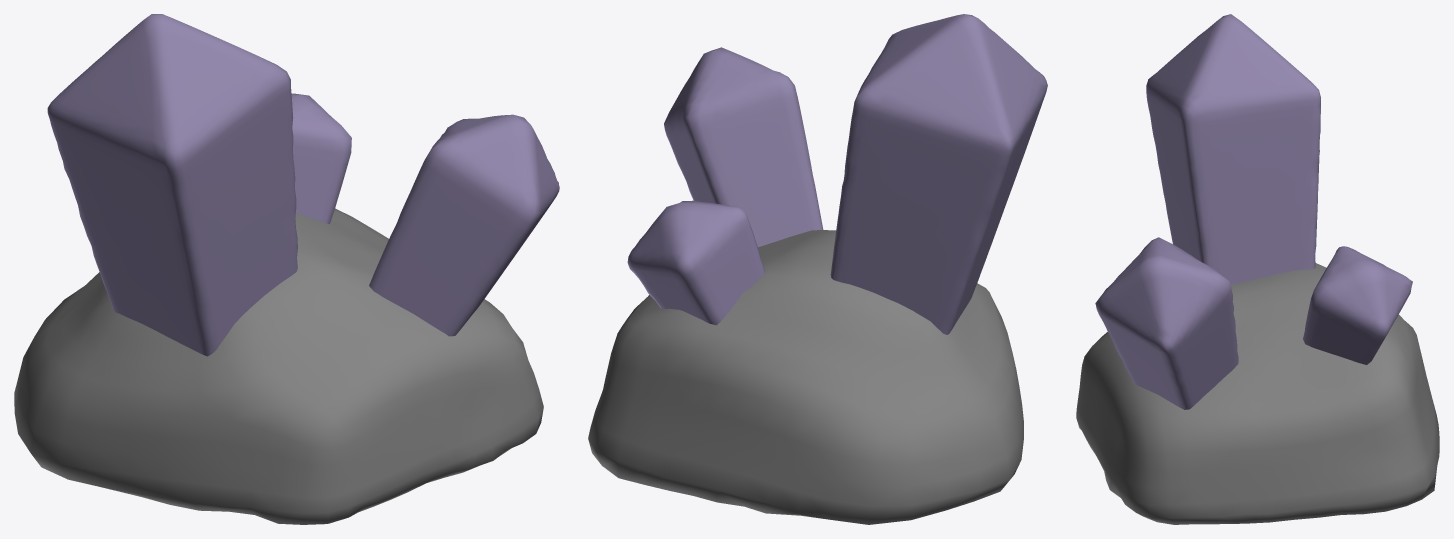
Rendered from Crystal.fbx.
3 views of the same model, side by side, from view 1: azimuth 30°, elevation 25°; view 2: azimuth 150°, elevation 25°; view 3: azimuth 270°, elevation 25° (orthographic). The views are drawn at different scales.
Visible parts, largest first — view 1: Rock_L, Crystal_L; view 2: Rock_L, Crystal_L; view 3: Crystal_L, Rock_L.
Boxes of the visible parts, <box> form: Rock_L: <box>14,208,543,524</box>; Crystal_L: <box>47,14,559,356</box>; Rock_L: <box>588,230,1023,524</box>; Crystal_L: <box>627,14,1047,334</box>; Crystal_L: <box>1095,14,1412,409</box>; Rock_L: <box>1076,263,1439,524</box>.
Bounding box in the file's own units: 171 × 169 × 148.
